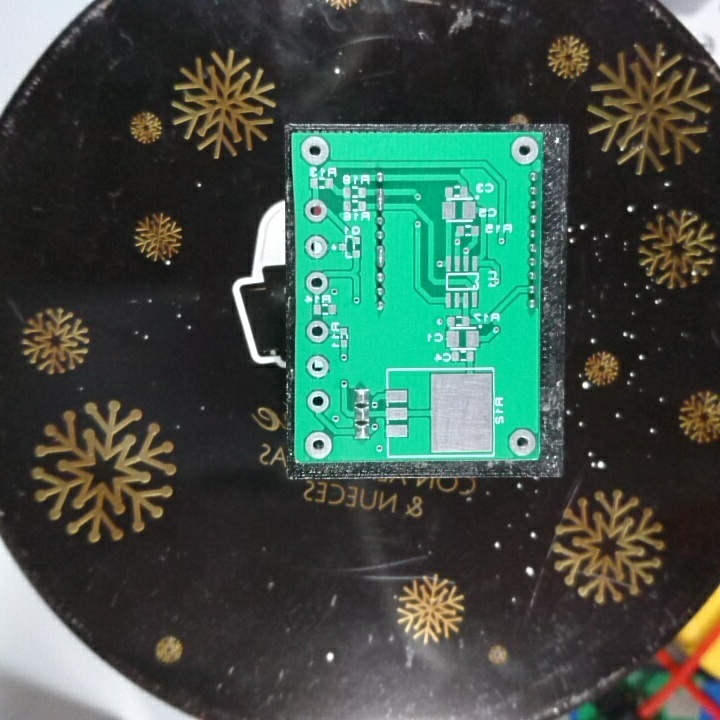F: (300, 132, 333, 168), (510, 132, 542, 167), (303, 428, 336, 459), (508, 426, 540, 455), (303, 352, 333, 381), (301, 267, 330, 296), (303, 196, 330, 227), (303, 234, 332, 262), (304, 387, 333, 414), (303, 317, 331, 344)
P: (372, 183, 393, 213), (371, 242, 392, 269)
